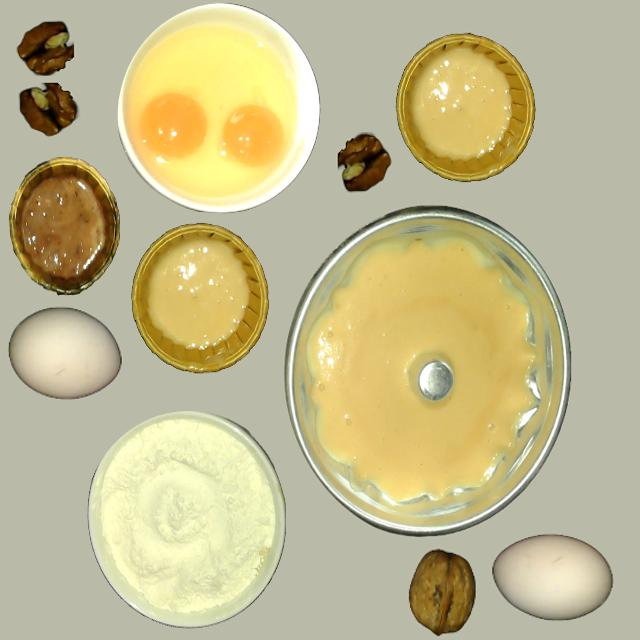Egg: (141, 94, 206, 158), (222, 106, 281, 166)
Flour: (89, 411, 288, 629)
Walnut: (408, 550, 474, 634)
